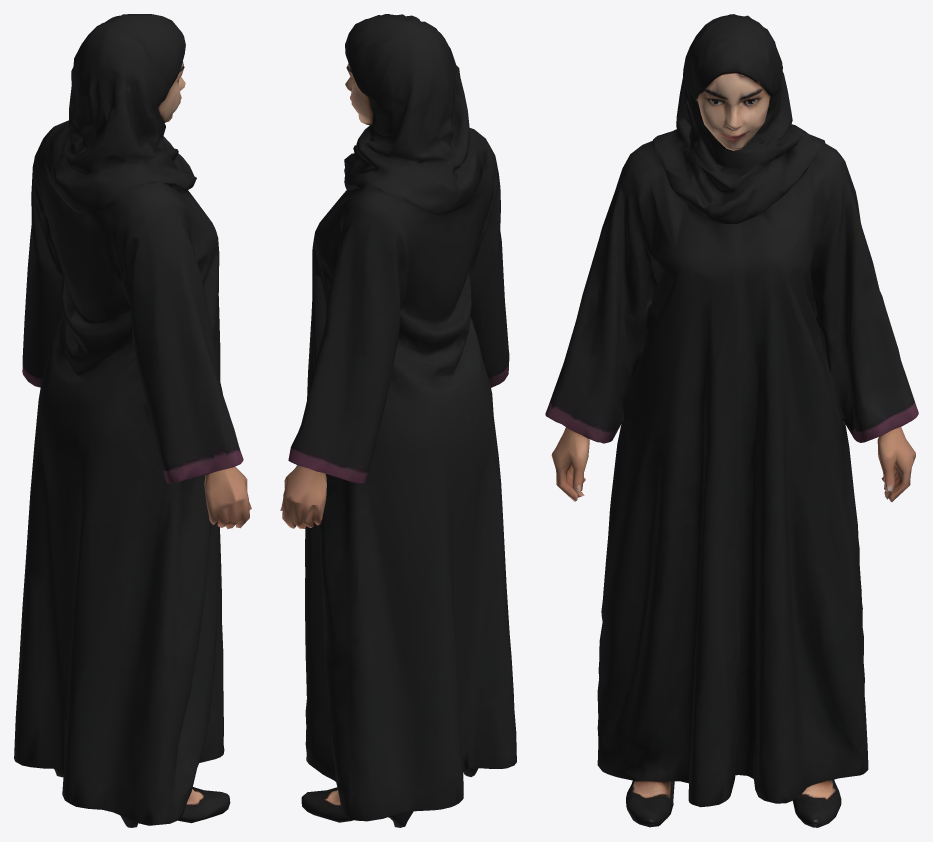
File: person-abaya.glb
3 views of the same model, side by side, from view 1: azimuth 30°, elevation 25°; view 2: azimuth 150°, elevation 25°; view 3: azimuth 270°, elevation 25° (orthographic).
Parts seen in each view (by area): view 1: tripo_node_31d2988a-8165-4264-91f5-4fa13153a392; view 2: tripo_node_31d2988a-8165-4264-91f5-4fa13153a392; view 3: tripo_node_31d2988a-8165-4264-91f5-4fa13153a392.
Part boxes in pixels (bbox=[...]): tripo_node_31d2988a-8165-4264-91f5-4fa13153a392: bbox=[14, 14, 251, 827]; tripo_node_31d2988a-8165-4264-91f5-4fa13153a392: bbox=[280, 14, 516, 827]; tripo_node_31d2988a-8165-4264-91f5-4fa13153a392: bbox=[545, 14, 918, 827].
Bounding box in the file's own units: 0.2265 × 1 × 0.4315.
1 material, 1 textured.
